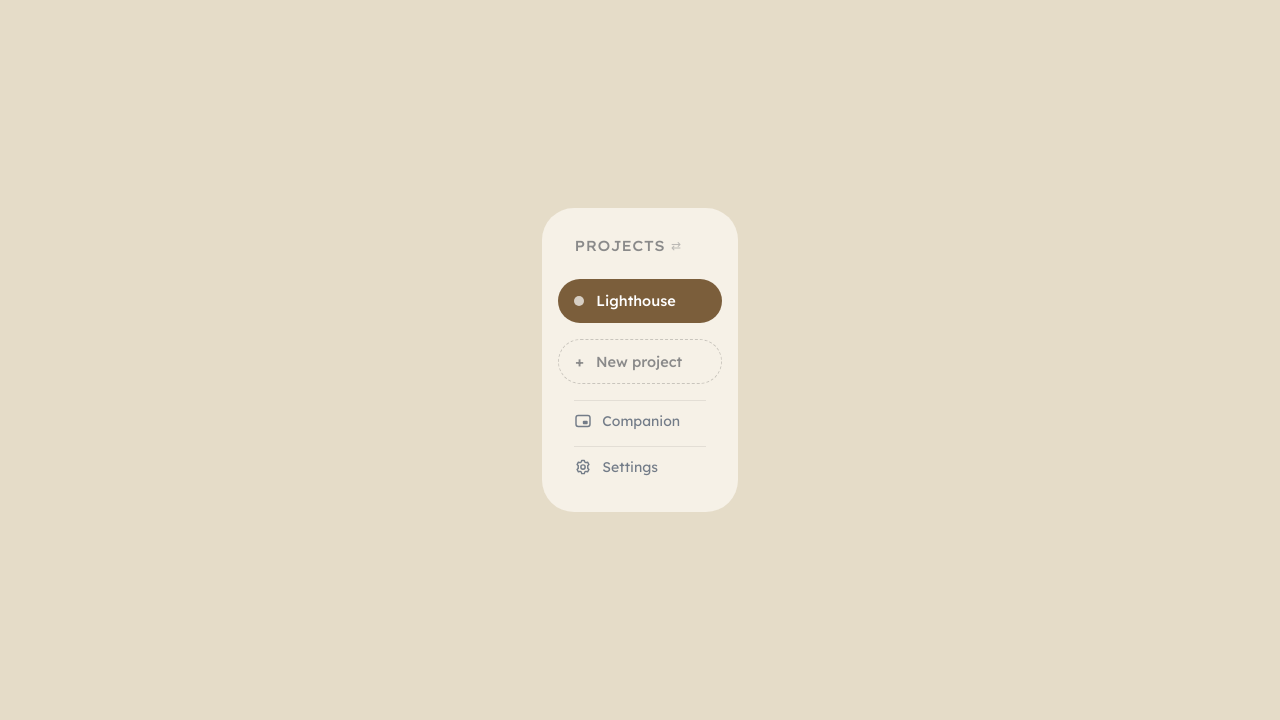
Scenario: the Theme choice in Settings › storage that refuses to be read or written still lets the choice show
Step 1. Click the button with class "sidebar-settings" → click(640, 465), box x1=574 y1=446 x2=706 y2=484
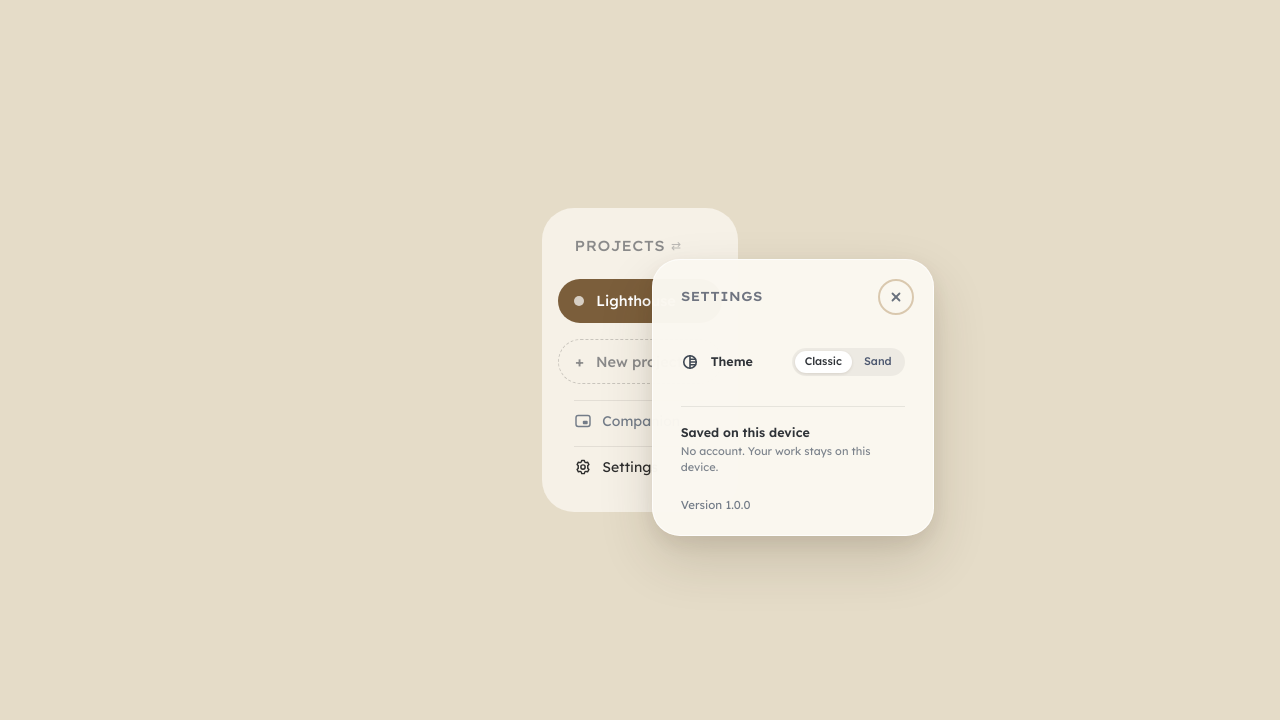
Step 2. Click the button "Sand" → click(878, 362), box x1=854 y1=351 x2=902 y2=373
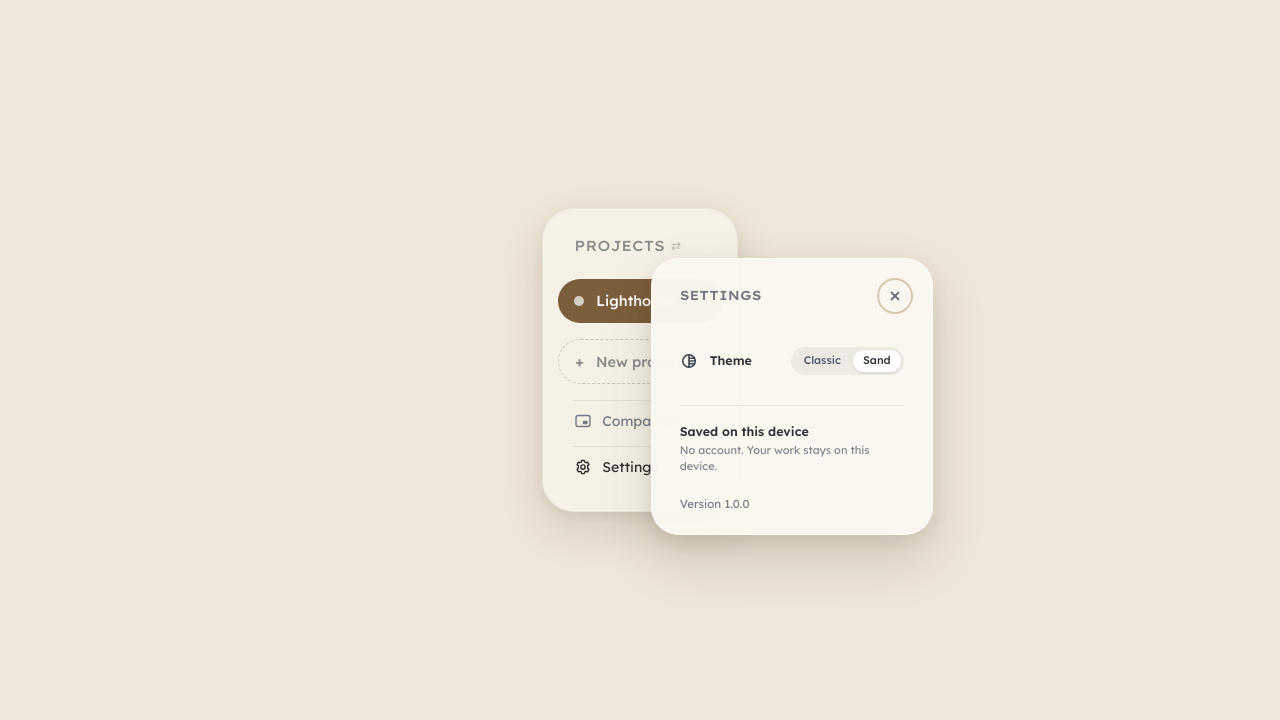
Expected: the button "Sand" is pressed, x1=853 y1=350 x2=901 y2=372
